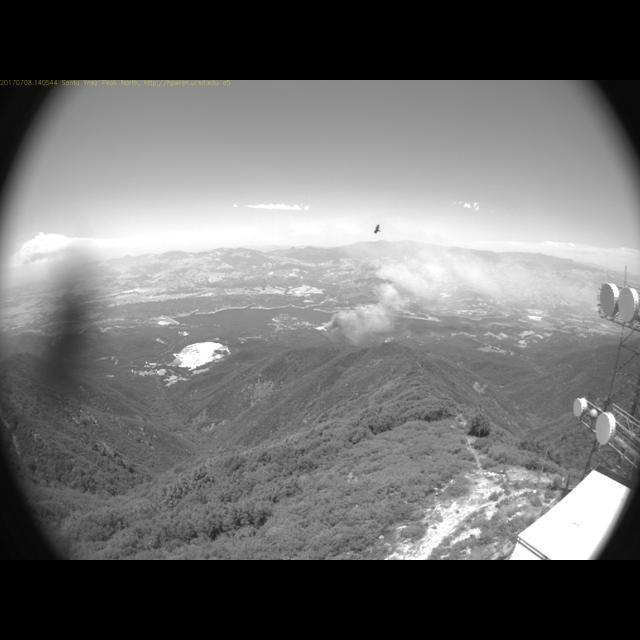Smoke: (312, 244, 564, 348)
